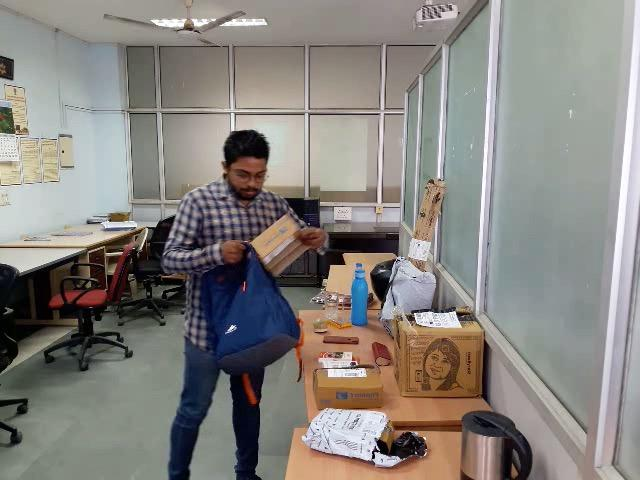shoplifting: (124, 208, 349, 369)
